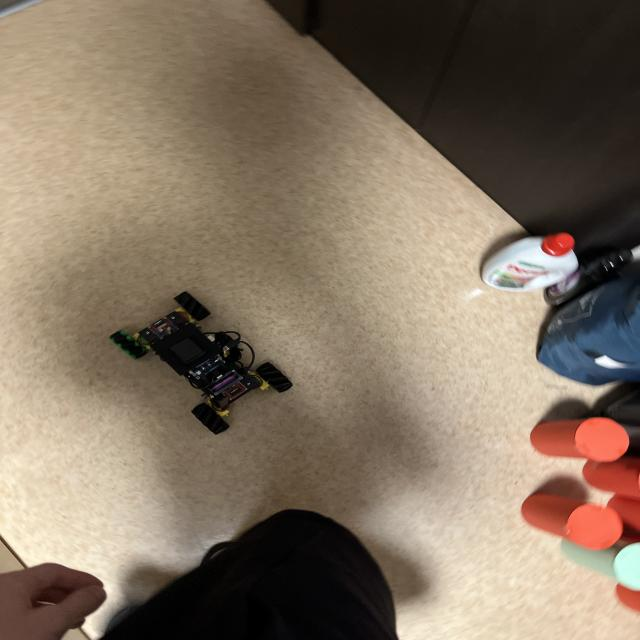robot: (111, 292, 292, 434)
